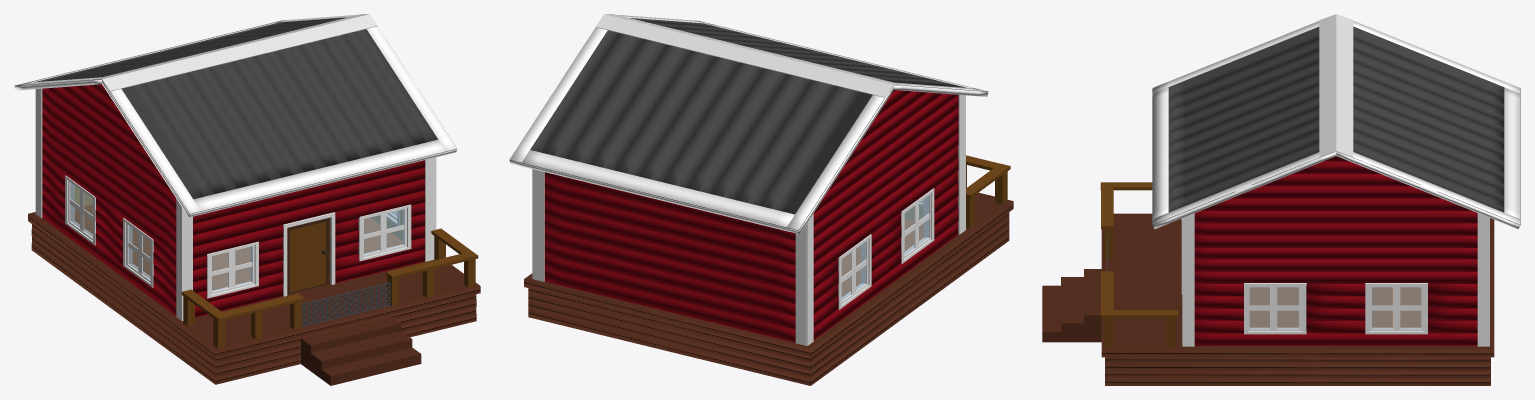
Rendered from House2.fbx.
3 views of the same model, side by side, from view 1: azimuth 30°, elevation 25°; view 2: azimuth 150°, elevation 25°; view 3: azimuth 270°, elevation 25° (orthographic). The views are drawn at different scales.
Visible parts, largest first — view 1: Roof, OuterWalls, Foundation, Foundation.001, Fence, RoofBeams, SideBeams, Door, WindowGlass, Floor, WindowOuterFrame, Gate (+6 smaller); view 2: Roof, OuterWalls, Foundation, RoofBeams, SideBeams, WindowGlass, WindowOuterFrame, Fence, WindowInnerFame, Floor, WindowCross.002; view 3: Roof, OuterWalls, Foundation, RoofBeams, Foundation.001, SideBeams, WindowGlass, Floor, Fence, WindowOuterFrame, WindowCross.002, WindowInnerFame.
Boxes of the visible parts, box(x1,y1,x2,y2) form: Roof: box(14, 14, 457, 217); OuterWalls: box(42, 84, 424, 317); Foundation: box(28, 212, 480, 384); Foundation.001: box(301, 316, 421, 385); Fence: box(181, 228, 478, 348); RoofBeams: box(94, 14, 377, 91); SideBeams: box(35, 88, 436, 320); Door: box(287, 217, 330, 294); WindowGlass: box(70, 182, 404, 279); Floor: box(75, 204, 402, 290); WindowOuterFrame: box(65, 175, 411, 287); Gate: box(301, 282, 390, 326); Roof: box(509, 15, 988, 234); OuterWalls: box(544, 90, 958, 342); Foundation: box(524, 192, 1013, 385); RoofBeams: box(595, 14, 902, 97); SideBeams: box(532, 95, 965, 345); WindowGlass: box(841, 196, 928, 300); WindowOuterFrame: box(838, 188, 934, 309); Fence: box(966, 155, 1010, 228); WindowInnerFame: box(841, 194, 930, 304); Floor: box(841, 219, 923, 296); WindowCross.002: box(841, 203, 929, 294); Roof: box(1152, 21, 1520, 229); OuterWalls: box(1194, 156, 1477, 345); Foundation: box(1101, 213, 1494, 385); RoofBeams: box(1319, 14, 1353, 157); Foundation.001: box(1042, 269, 1101, 342); SideBeams: box(1182, 213, 1489, 346); WindowGlass: box(1249, 287, 1421, 328); Floor: box(1249, 287, 1421, 327); Fence: box(1100, 182, 1178, 347); WindowOuterFrame: box(1244, 283, 1427, 334); WindowCross.002: box(1249, 287, 1421, 329); WindowInnerFame: box(1248, 286, 1423, 331).
Size of the model in its own units: 53.15 by 78.35 by 42.8.
